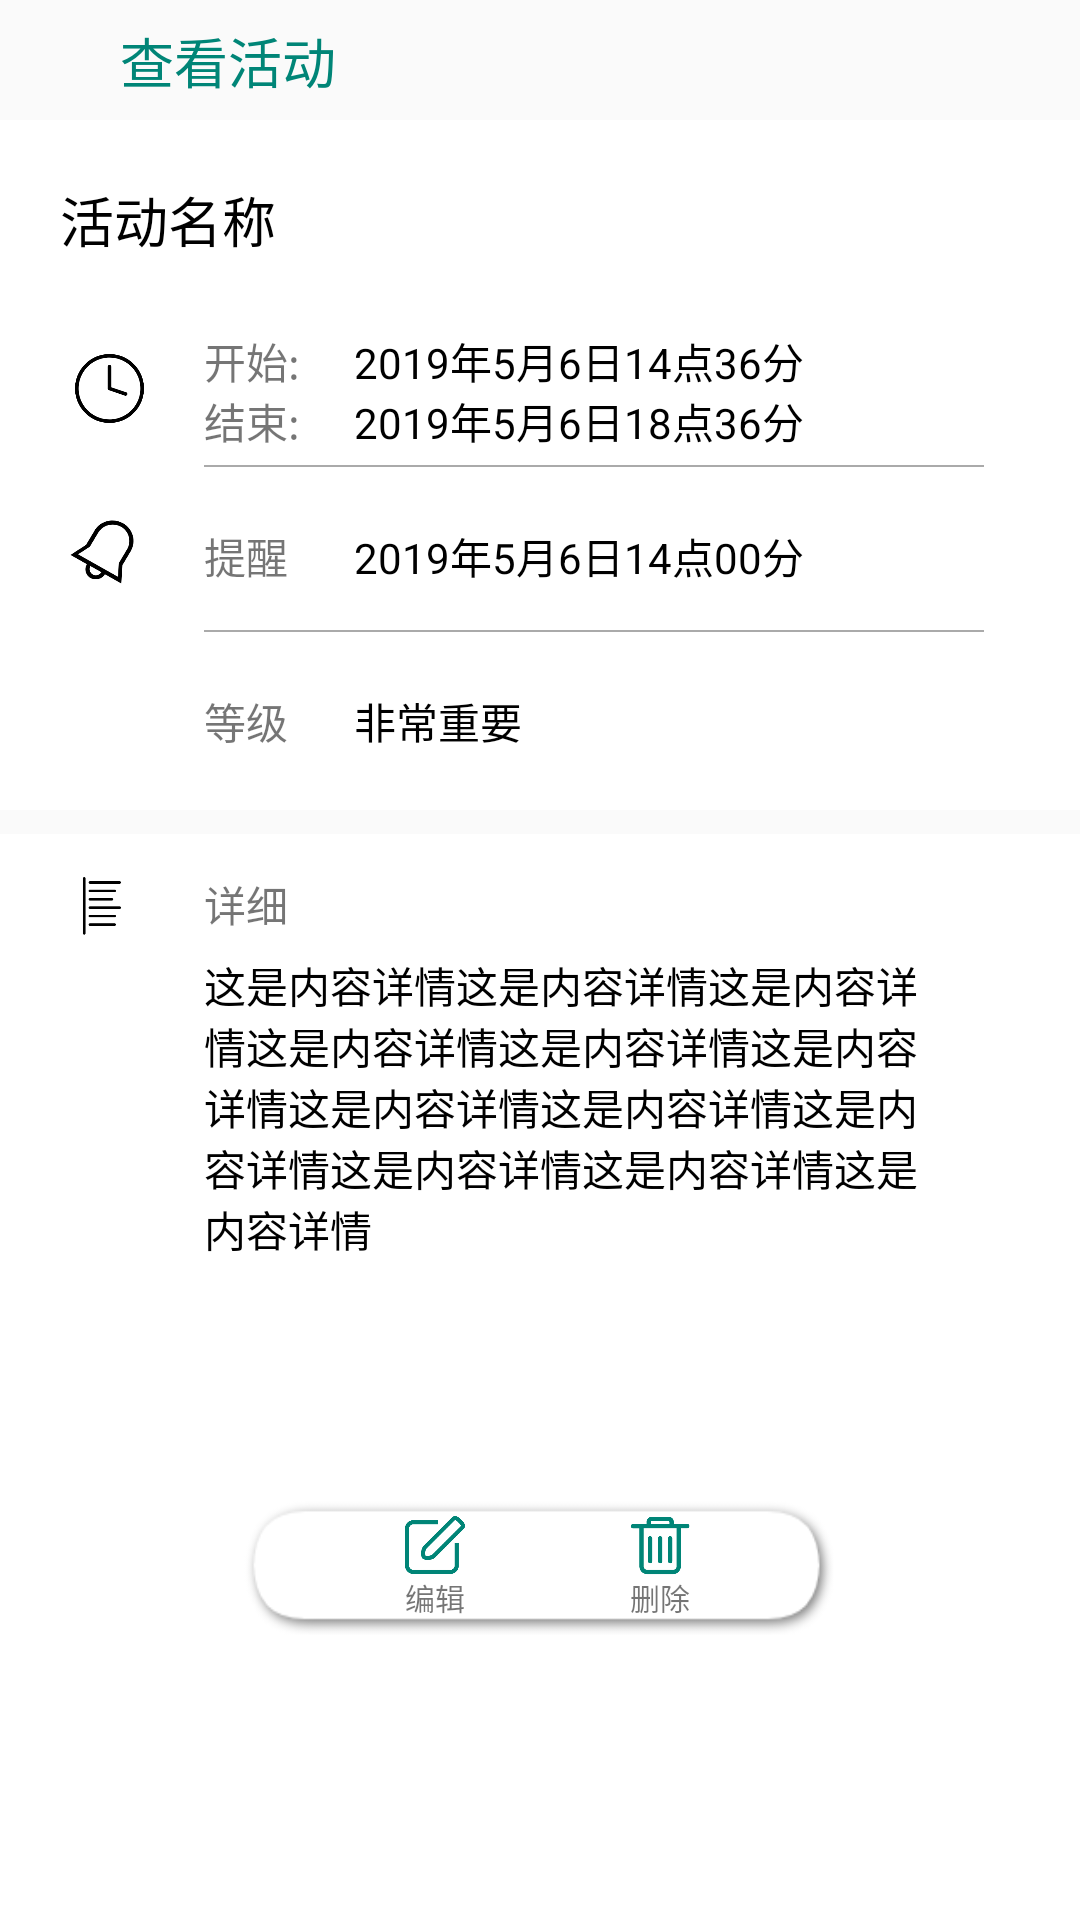

Named icons in this screenshot (1080 × 1920) and their bounding boxes, bbox=(x1, y1, x2, y2):
content: bbox=(83, 877, 121, 935)
notice: bbox=(71, 520, 134, 583)
time: bbox=(75, 354, 144, 423)
